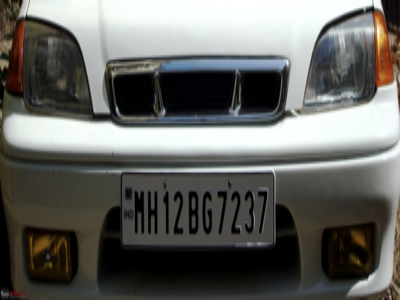licence: (122, 174, 277, 249)
